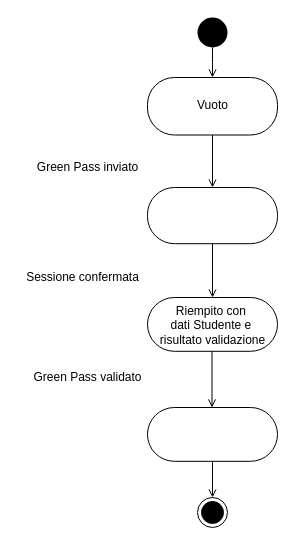
Some shapes in this 295 by 545 pixel diagram are drawn without their labels. Each missing label, with the centre of its shape:
Inserito nel report: point 212,433
Riempito con Green Pass: point 212,215
